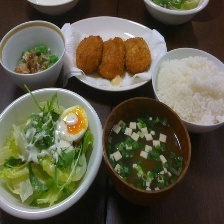rice: (157, 53, 224, 129)
